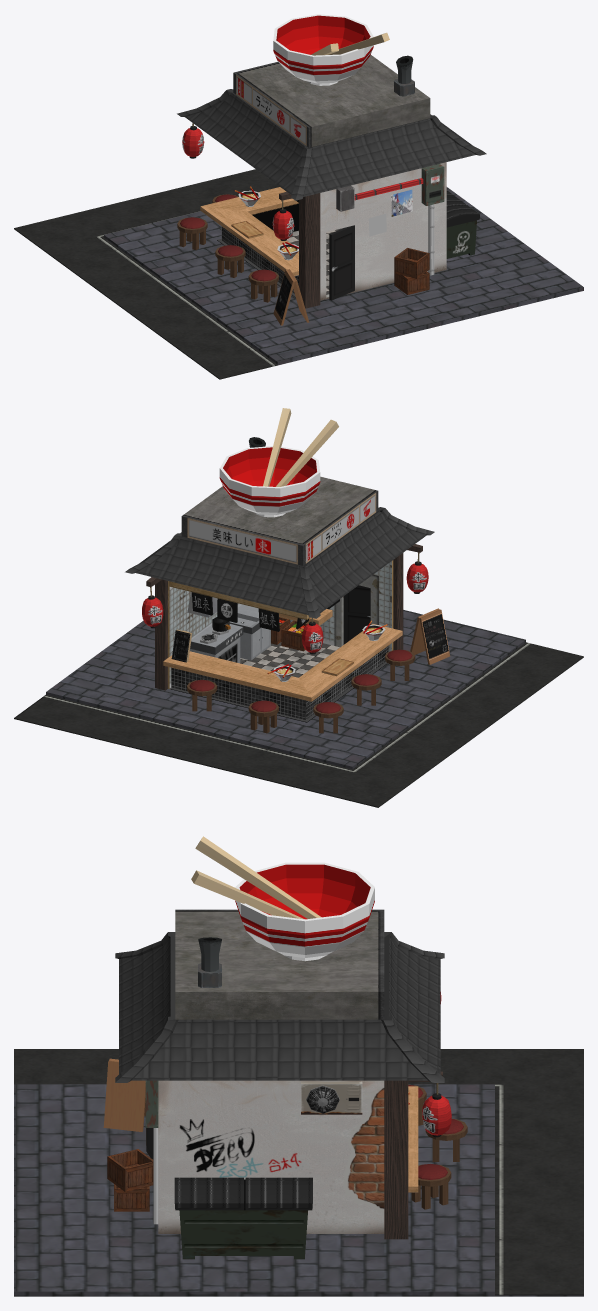
Rendered from ramen_shop.obj.
3 views of the same model, one above another, from view 1: azimuth 30°, elevation 25°; view 2: azimuth 150°, elevation 25°; view 3: azimuth 270°, elevation 25° (orthographic). The views are drawn at different scales.
Parts seen in each view (by area): view 1: pCube1, Piano.001; view 2: pCube1; view 3: pCube1.
Part boxes in pixels (bbox=[...]): pCube1: bbox=[14, 14, 583, 379]; Piano.001: bbox=[391, 189, 412, 216]; pCube1: bbox=[14, 408, 583, 807]; pCube1: bbox=[14, 836, 583, 1296].
Size of the model in its own units: 0.2418 by 0.1534 by 0.2363.
